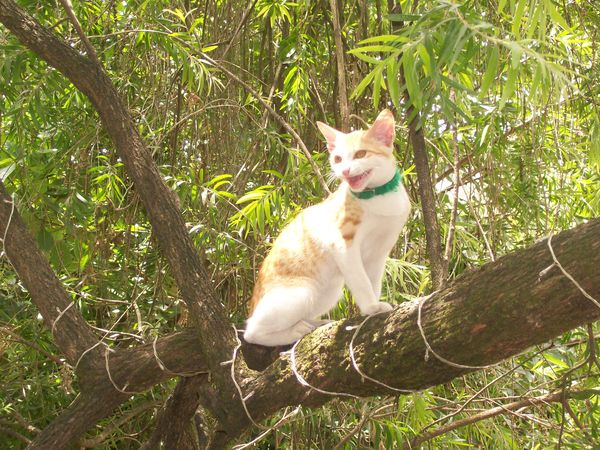cat: (226, 98, 418, 372)
